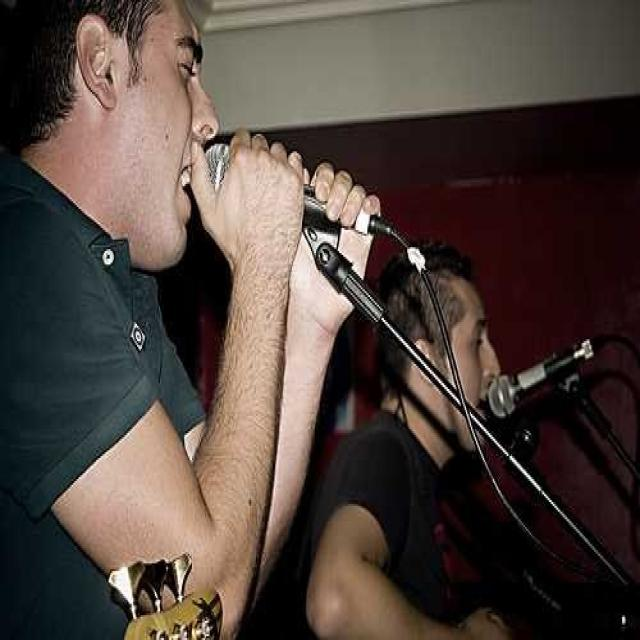microphone: (194, 144, 369, 240), (487, 340, 591, 419)
